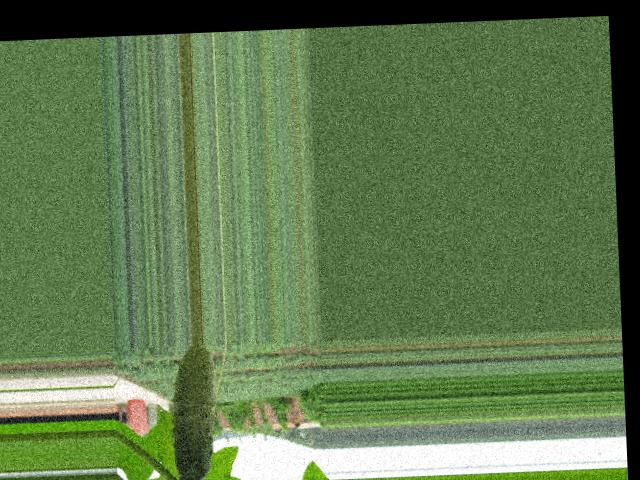cucumber: (169, 343, 219, 480)
